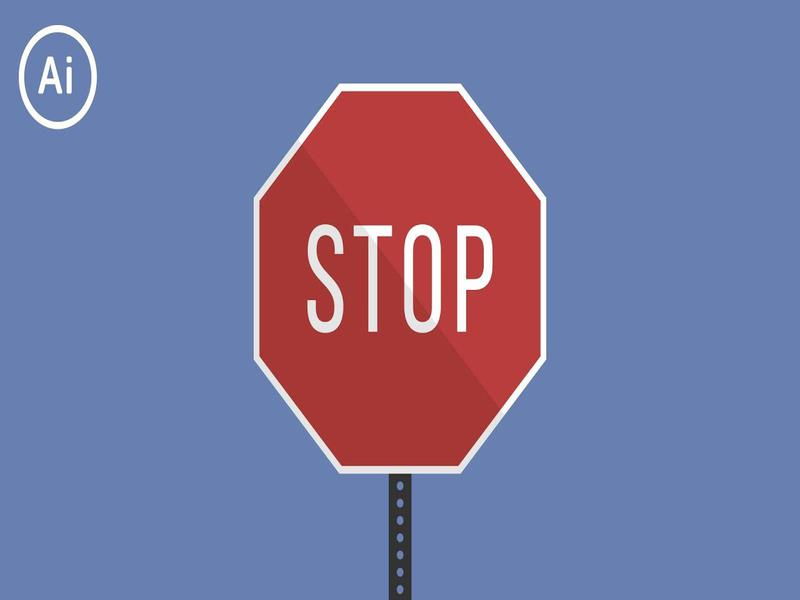stop: (250, 76, 550, 477)
